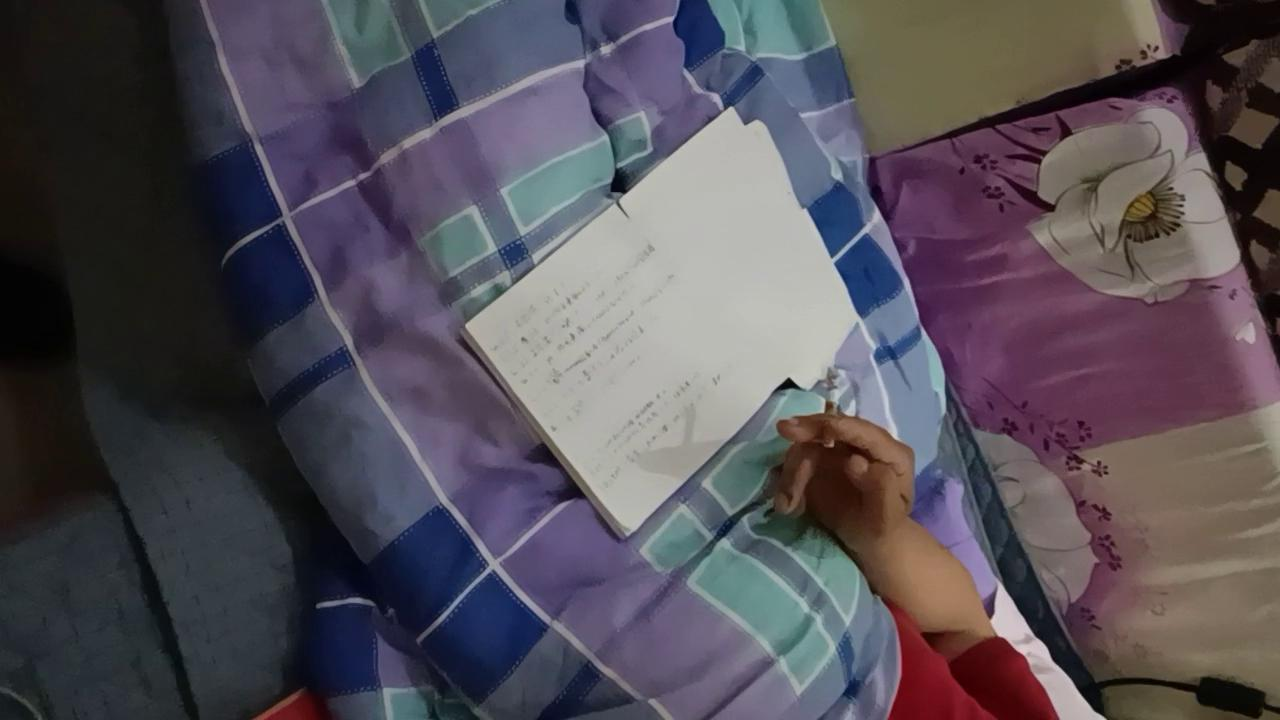smoke: (822, 368, 841, 448)
